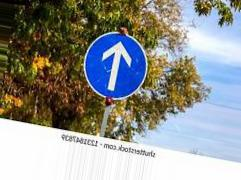forward: (84, 30, 147, 101)
